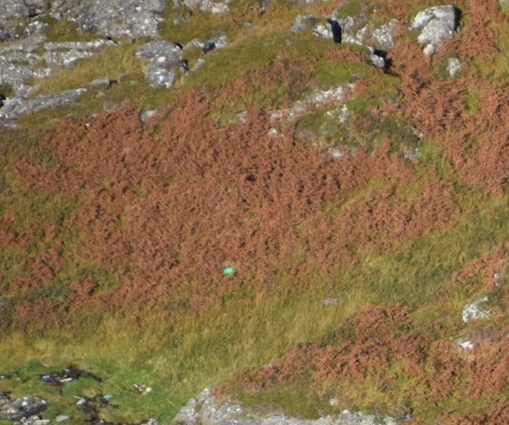scattered_barrel: (36, 364, 157, 409)
white_in_green: (202, 247, 261, 298)
